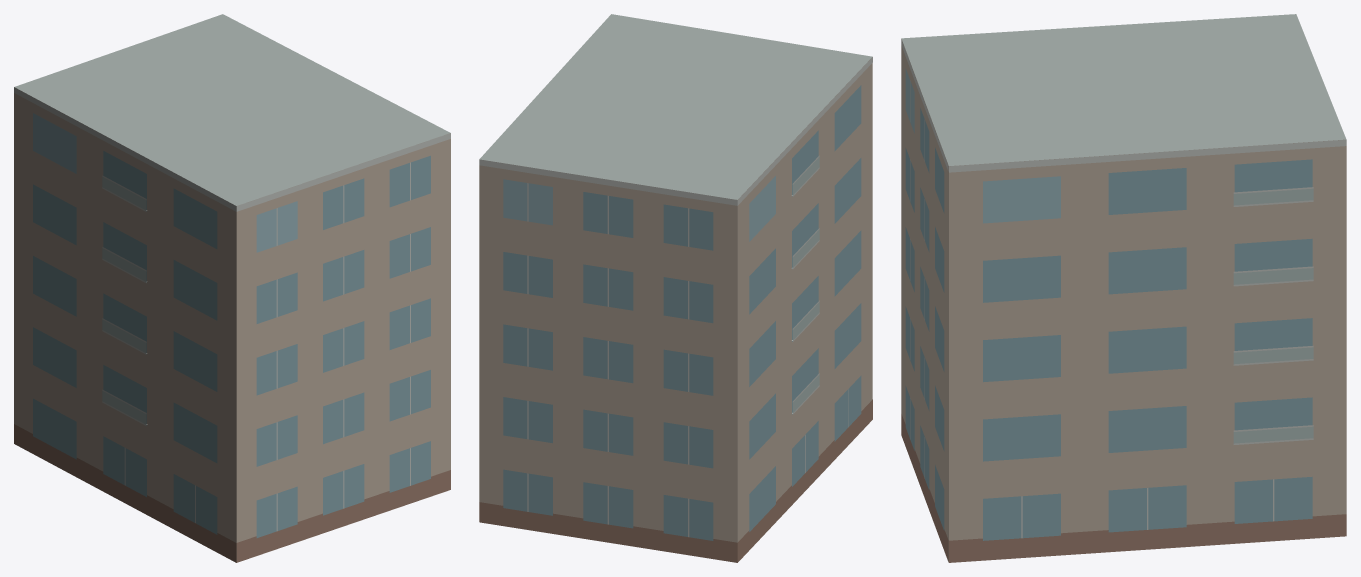
File: survey-upis-32746717.glb
3 renders of one model, left to right at view 1: azimuth 30°, elevation 25°; view 2: azimuth 150°, elevation 25°; view 3: azimuth 270°, elevation 25°, orthographic. The views are drawn at different scales.
Parts seen in each view (by area): view 1: survey-upis-32746717.tmp; view 2: survey-upis-32746717.tmp; view 3: survey-upis-32746717.tmp.
Boxes of the visible parts, bbox=[...] form: survey-upis-32746717.tmp: bbox=[14, 14, 450, 562]; survey-upis-32746717.tmp: bbox=[479, 14, 872, 562]; survey-upis-32746717.tmp: bbox=[901, 14, 1346, 562].
Bounding box in the file's own units: 12.26 × 14.9 × 15.16.
